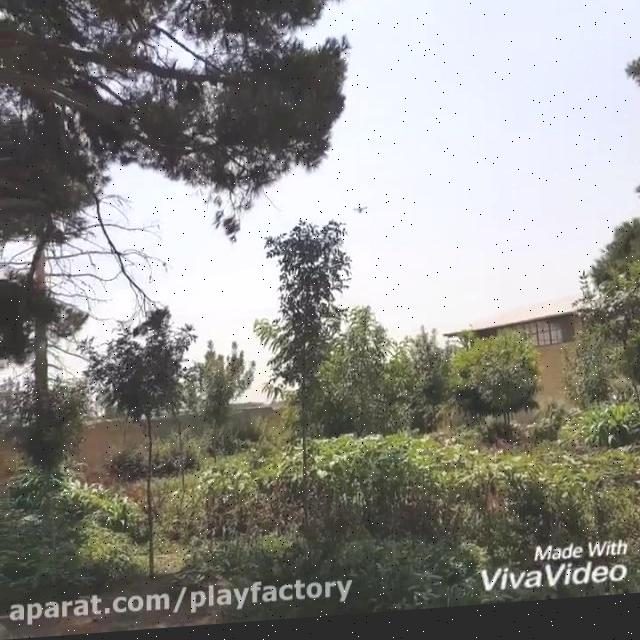drone: (351, 202, 373, 224)
